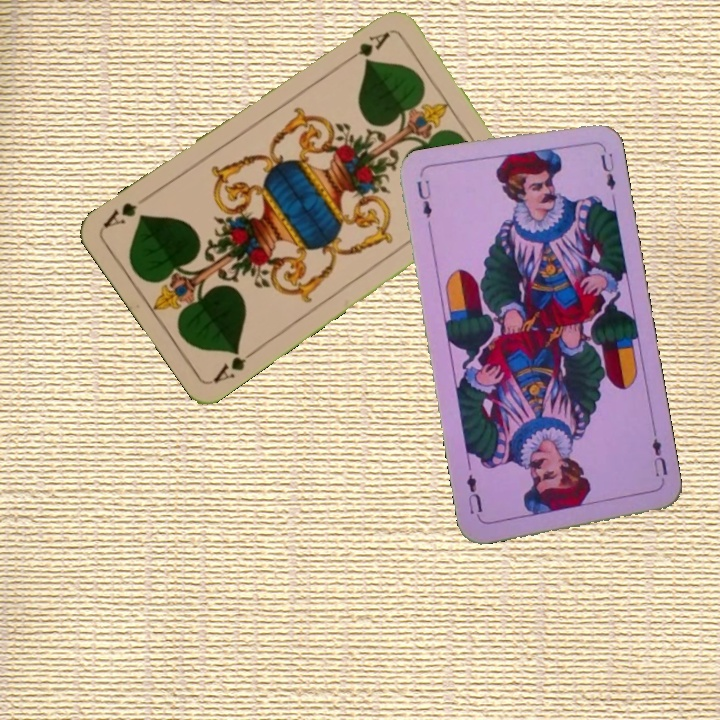EU: (647, 428, 671, 487), (412, 175, 435, 233)
GA: (209, 343, 260, 386), (340, 27, 393, 67)
